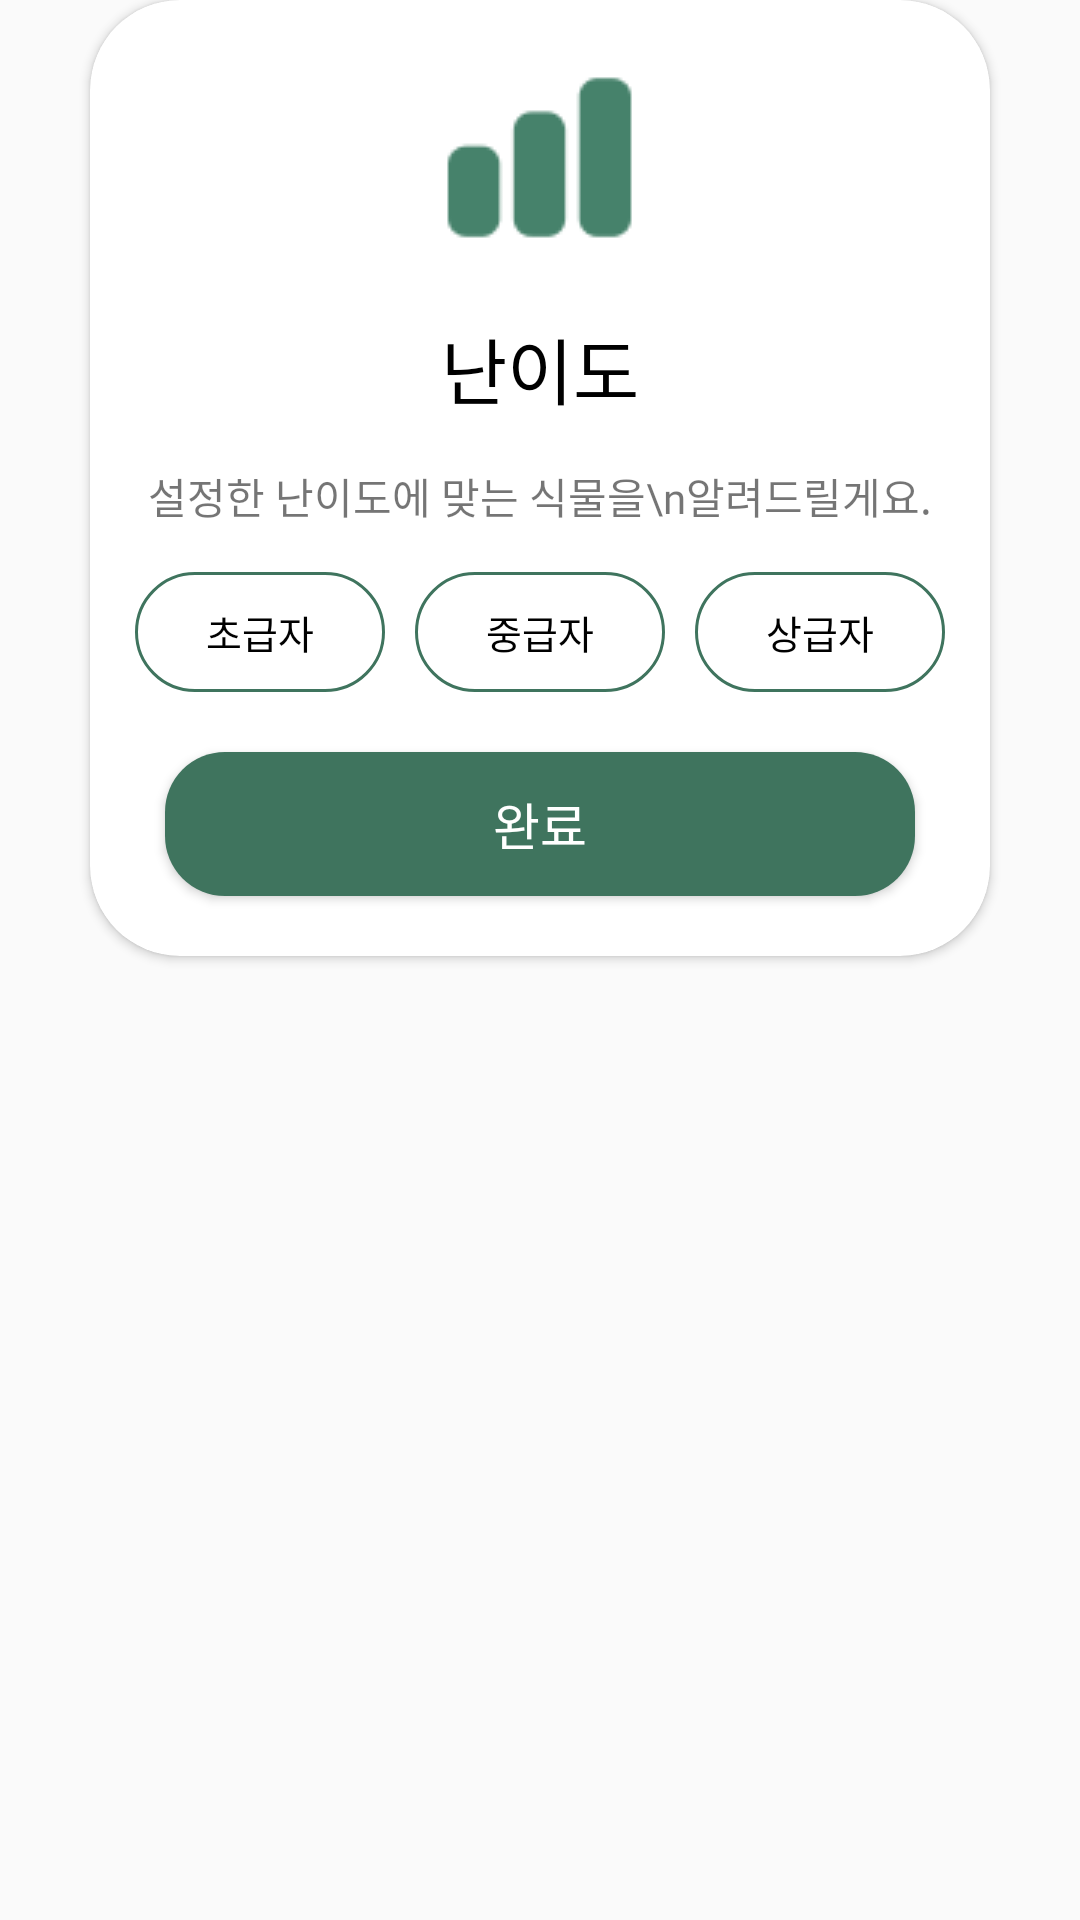

Named icons in this screenshot (1080x1920) and their bounding boxes, (x1, y1, x2, y2):
difficulty: (447, 77, 632, 238)
